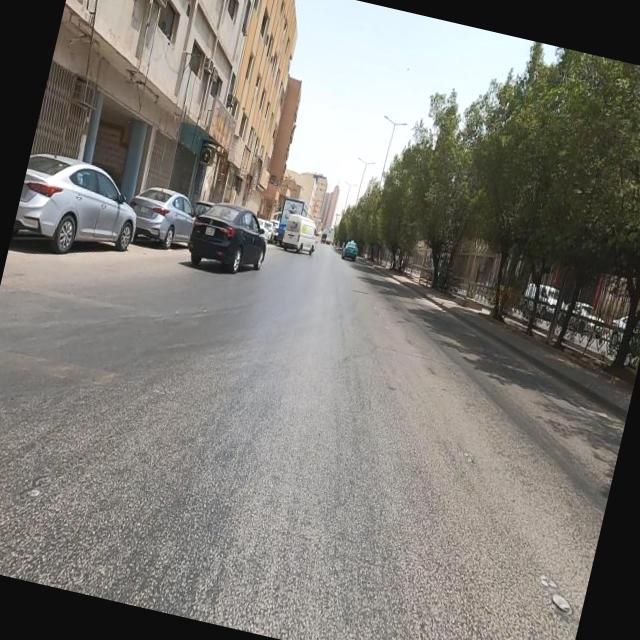debris: (162, 68, 278, 174), (201, 113, 283, 197), (232, 146, 291, 210)
